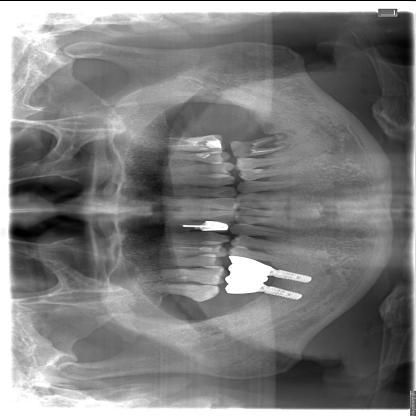ITI: (251, 280, 312, 304), (264, 265, 321, 285)
